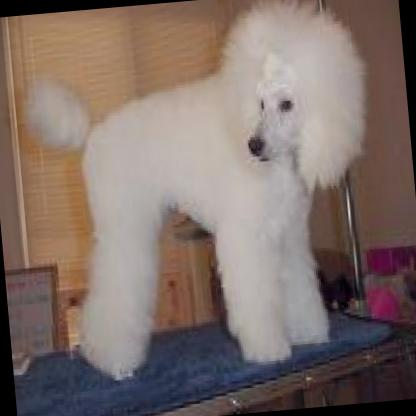miniature_poodle: (11, 0, 391, 389)
